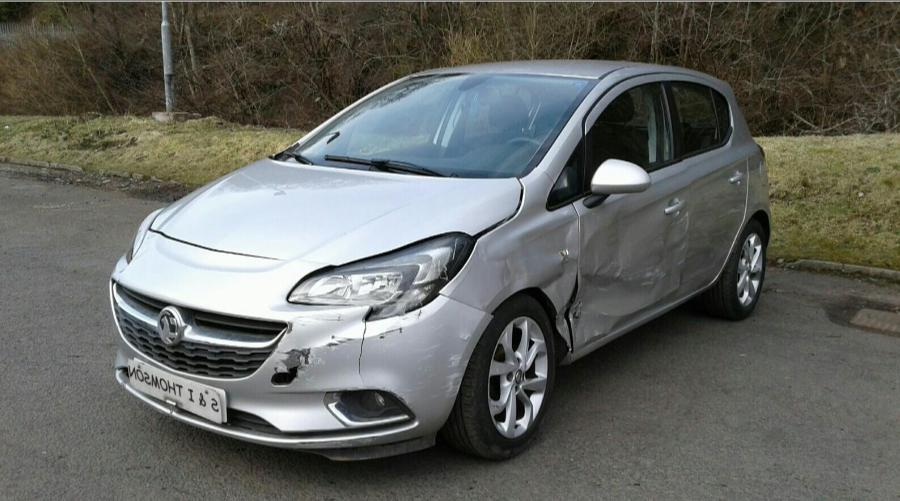Broken part: (107, 228, 495, 461), (562, 71, 692, 357), (429, 179, 529, 297), (560, 245, 570, 258)
Cracked: (288, 232, 474, 319)
Dent: (476, 157, 750, 362)
Flaking: (297, 434, 380, 445)
Paint chip: (370, 384, 408, 405), (267, 341, 281, 358), (287, 321, 293, 334)
Scratch: (404, 352, 440, 409), (289, 305, 363, 331), (436, 352, 470, 399), (392, 301, 430, 324), (279, 348, 316, 371), (641, 265, 667, 286), (375, 325, 404, 341), (324, 336, 352, 352), (670, 210, 691, 227), (377, 338, 406, 349), (310, 354, 330, 368), (305, 373, 322, 386), (427, 320, 445, 332), (668, 242, 686, 253), (420, 299, 434, 313), (574, 299, 582, 317), (725, 206, 740, 214), (597, 310, 613, 317), (424, 344, 439, 350), (595, 286, 609, 292), (457, 334, 469, 340), (674, 257, 684, 263), (615, 265, 622, 273), (600, 307, 607, 313)
